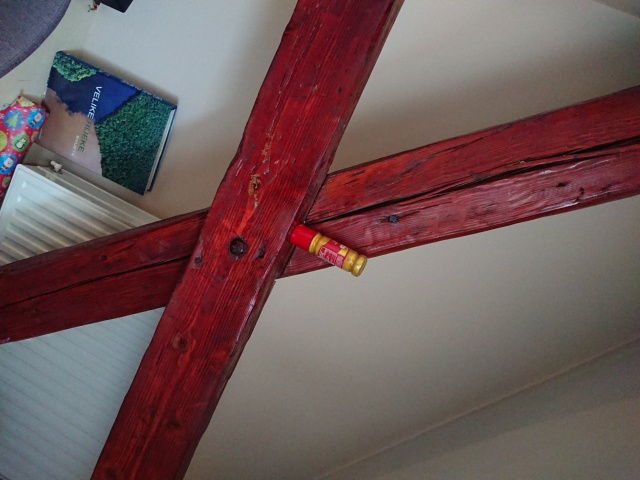Kotanyi Curry Spices Mix 70g: (286, 222, 369, 279)
